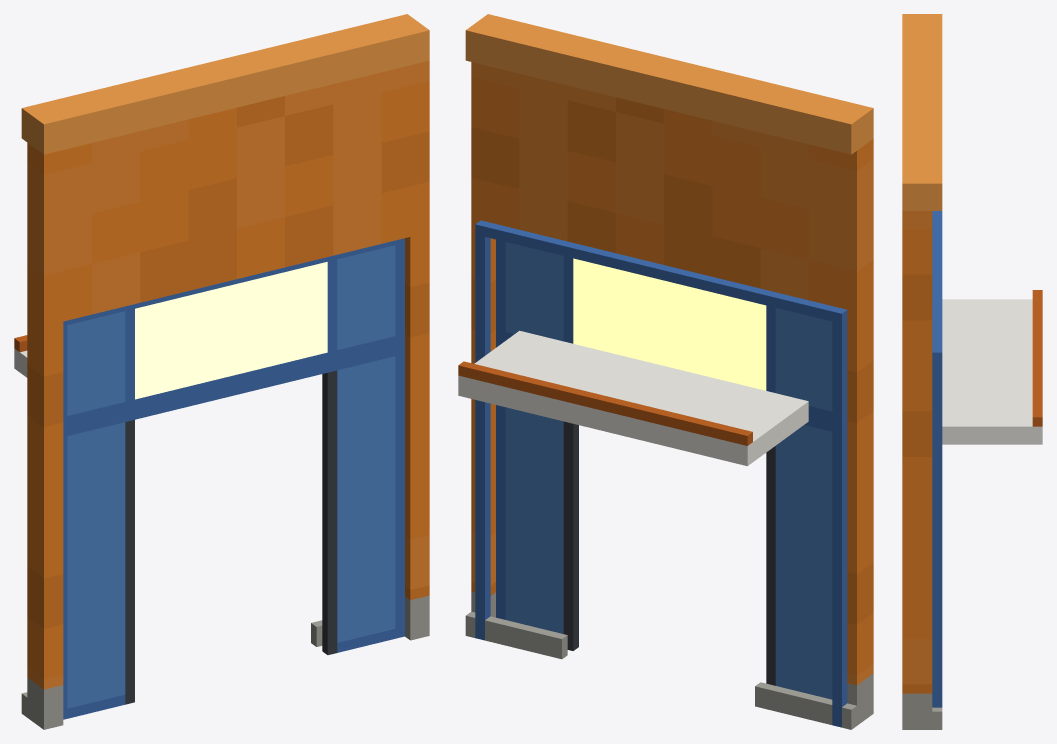
Rendered from lib_entrance.glb.
The picture shows the model from 3 angles, left to right: view 1: azimuth 30°, elevation 25°; view 2: azimuth 150°, elevation 25°; view 3: azimuth 270°, elevation 25°; orthographic projection. The views are drawn at different scales.
Parts seen in each view (by area): view 1: entrance; view 2: entrance; view 3: entrance.
Boxes of the visible parts, <box> form: entrance: <box>14,14,429,729</box>; entrance: <box>458,14,873,729</box>; entrance: <box>902,14,1042,729</box>.
Bounding box in the file's own units: 4 × 6 × 1.4.
